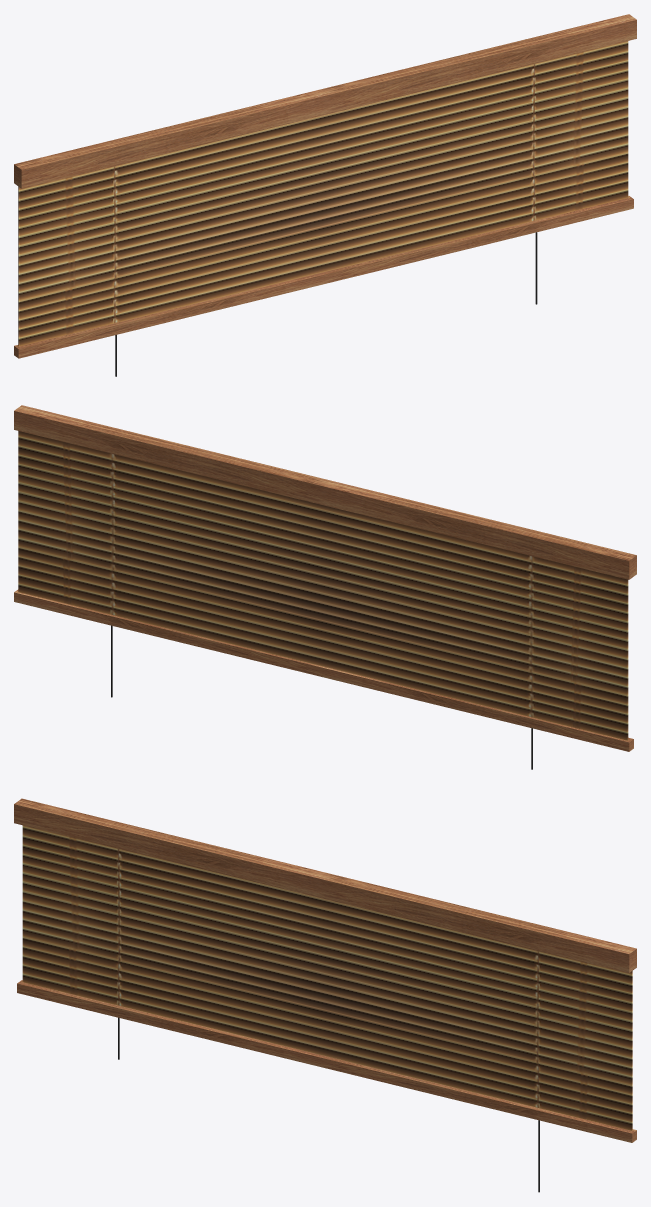
Rendered from window screen brown1.FBX.
3 views of the same model, one above another, from view 1: azimuth 30°, elevation 25°; view 2: azimuth 150°, elevation 25°; view 3: azimuth 330°, elevation 25° (orthographic).
Parts seen in each view (by area): view 1: window screen brown1; view 2: window screen brown1; view 3: window screen brown1.
Part boxes in pixels (left/top/right/bottom): window screen brown1: left=14, top=14, right=636, bottom=376; window screen brown1: left=14, top=405, right=636, bottom=769; window screen brown1: left=14, top=798, right=636, bottom=1192.
Bounding box in the file's own units: 122 × 2.69 × 50.25.
Materials: 1 (1 with a texture image).
